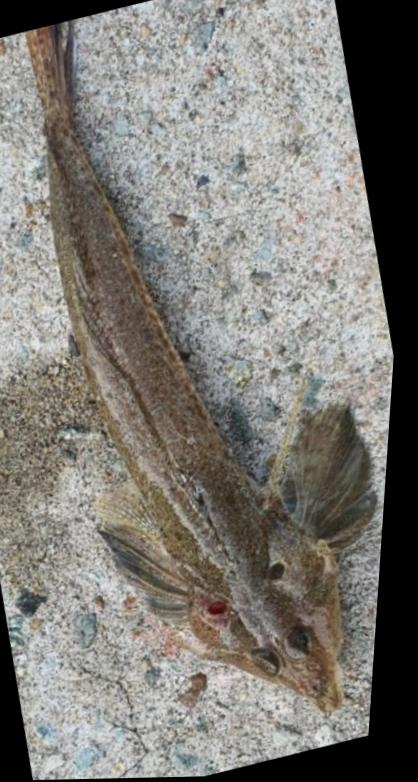fish: (23, 19, 385, 718)
